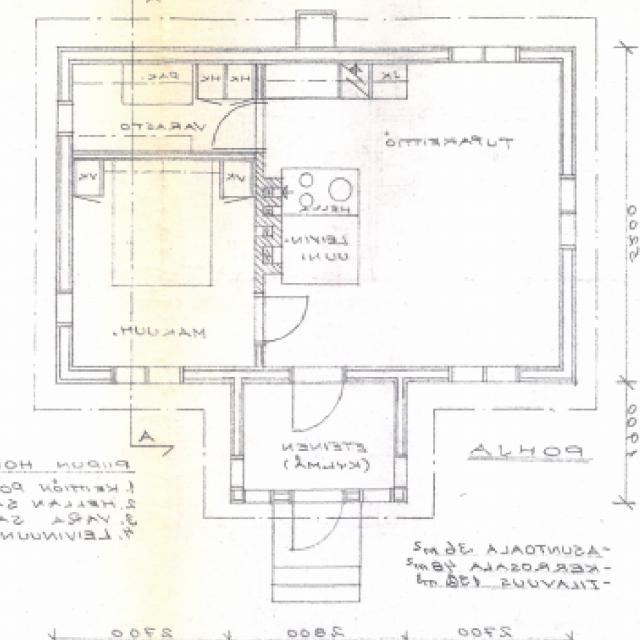door: (292, 367, 344, 437), (294, 486, 343, 552), (210, 102, 265, 150), (256, 296, 311, 343)
